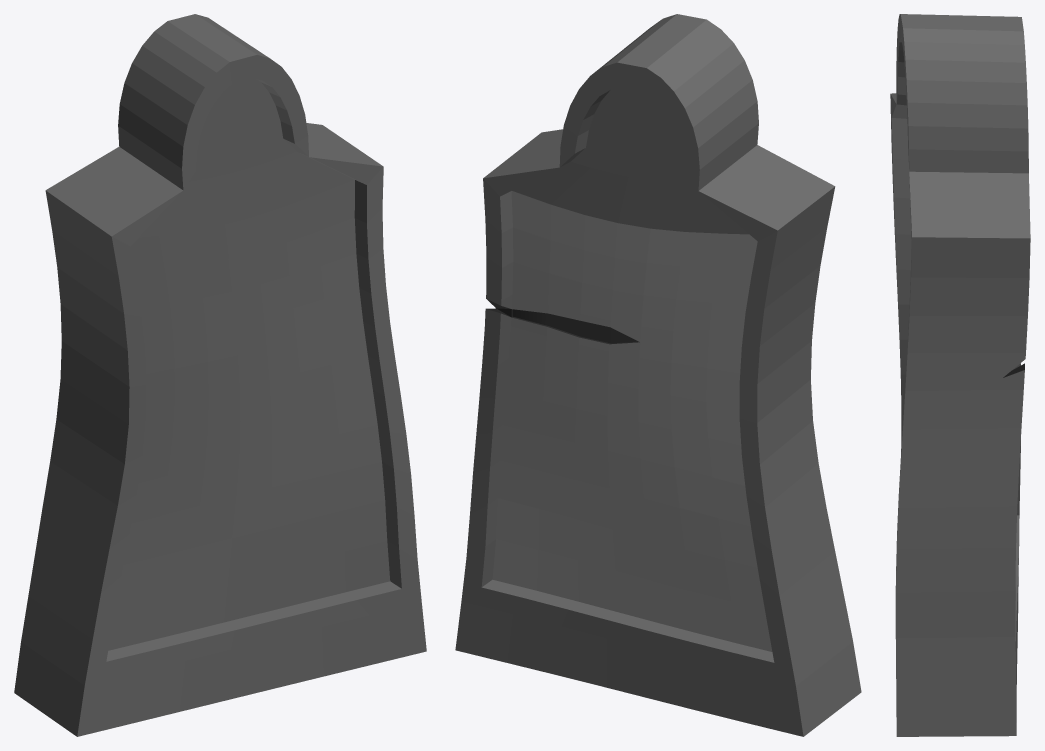
Rendered from Grave_2.fbx.
3 views of the same model, side by side, from view 1: azimuth 30°, elevation 25°; view 2: azimuth 150°, elevation 25°; view 3: azimuth 270°, elevation 25° (orthographic).
Parts seen in each view (by area): view 1: Grave_2; view 2: Grave_2; view 3: Grave_2.
Part boxes in pixels (x1,y1,x2,y2): Grave_2: (14, 14, 426, 736); Grave_2: (455, 14, 861, 736); Grave_2: (890, 14, 1030, 736).
Bounding box in the file's own units: 3.34 × 5.79 × 1.17.
